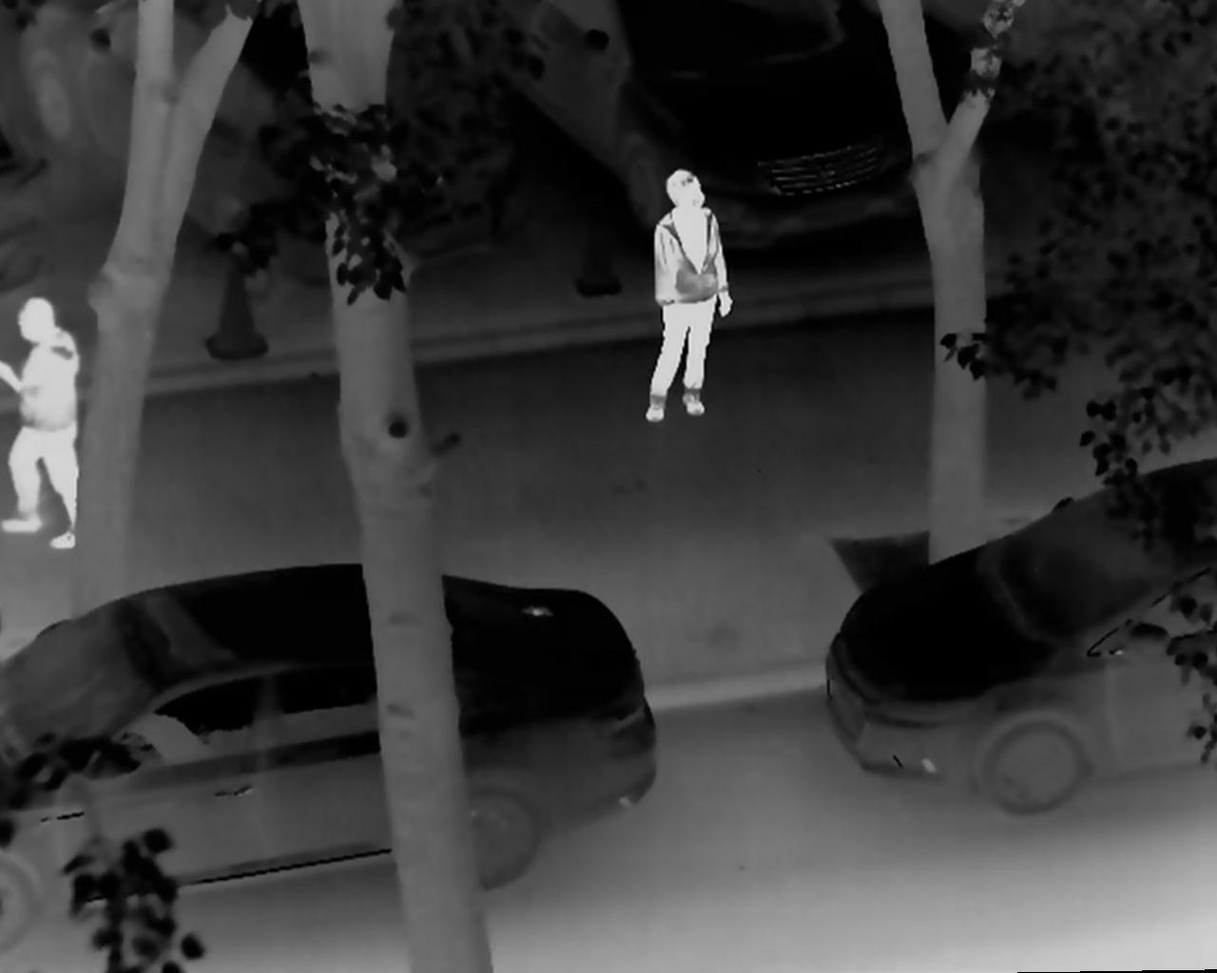person: (628, 165, 745, 428)
